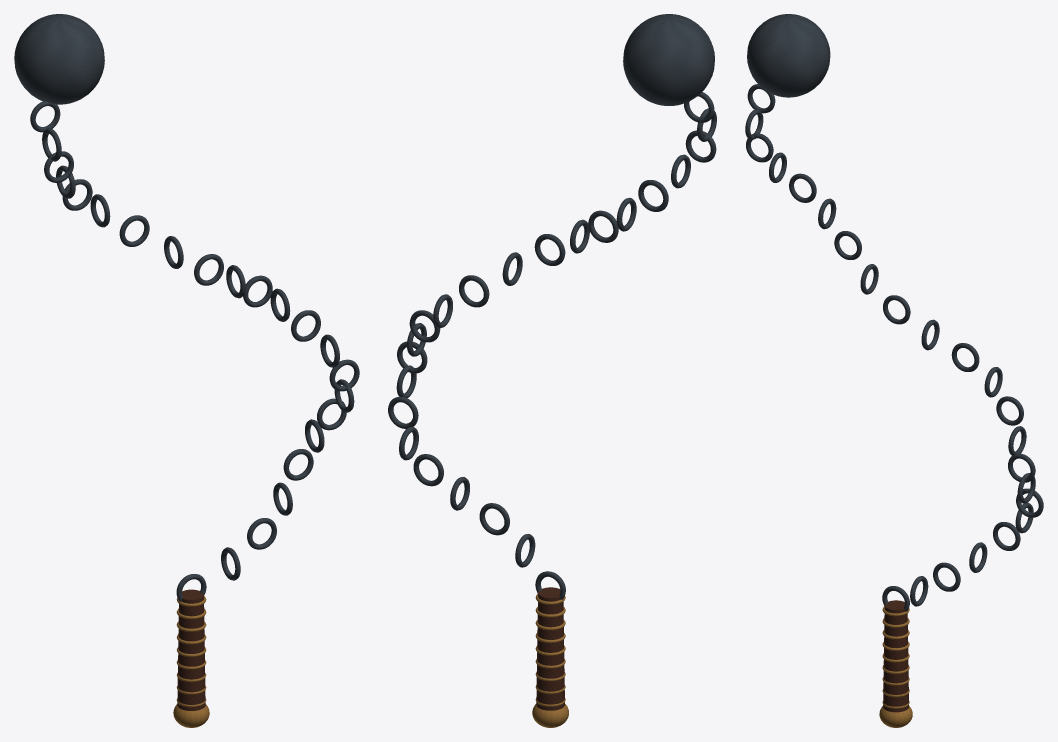
Rendered from meteor-hammer.glb.
3 renders of one model, left to right at view 1: azimuth 30°, elevation 25°; view 2: azimuth 150°, elevation 25°; view 3: azimuth 330°, elevation 25°, orthographic. The views are drawn at different scales.
Parts seen in each view (by area): view 1: iron.36, leather.0, brass.10; view 2: iron.36, leather.0, brass.10; view 3: iron.36, leather.0, brass.10.
Boxes of the visible parts, box(x1,y1,x2,y2) form: iron.36: box(14, 14, 104, 104); leather.0: box(177, 589, 205, 710); brass.10: box(173, 704, 209, 727); iron.36: box(623, 14, 714, 105); leather.0: box(536, 587, 564, 710); brass.10: box(532, 704, 568, 727); iron.36: box(747, 14, 830, 97); leather.0: box(883, 600, 908, 712); brass.10: box(879, 706, 912, 727).
Size of the model in its own units: 0.6576 by 1.43 by 0.1624.
Materials: 3 (3 with a texture image).
